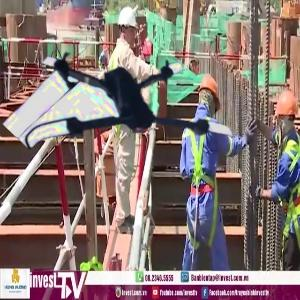drone: (33, 13, 231, 211)
